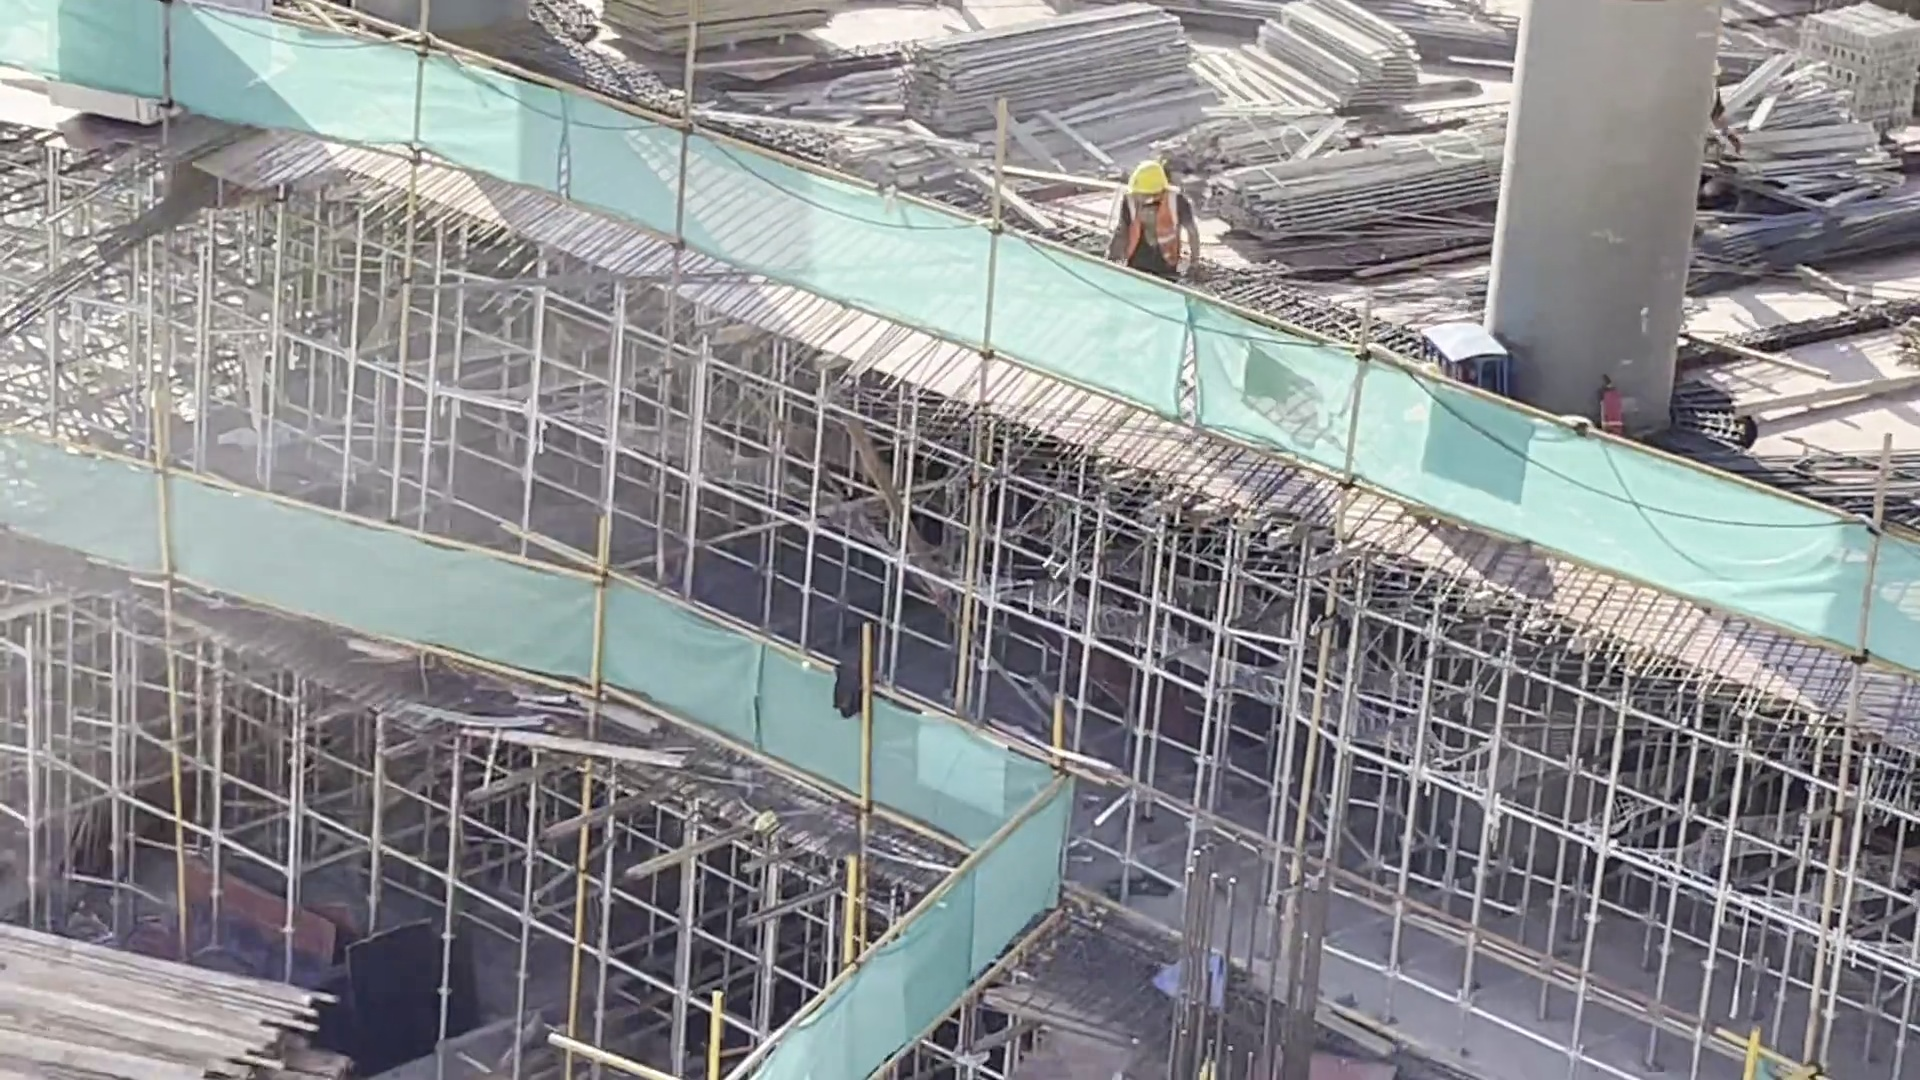board: (633, 1, 768, 27)
helmet: (1133, 161, 1174, 204)
person: (1104, 155, 1189, 280)
rebar: (1701, 197, 1920, 286), (1758, 408, 1920, 509), (1178, 28, 1531, 65)
vest: (1113, 192, 1169, 264)
